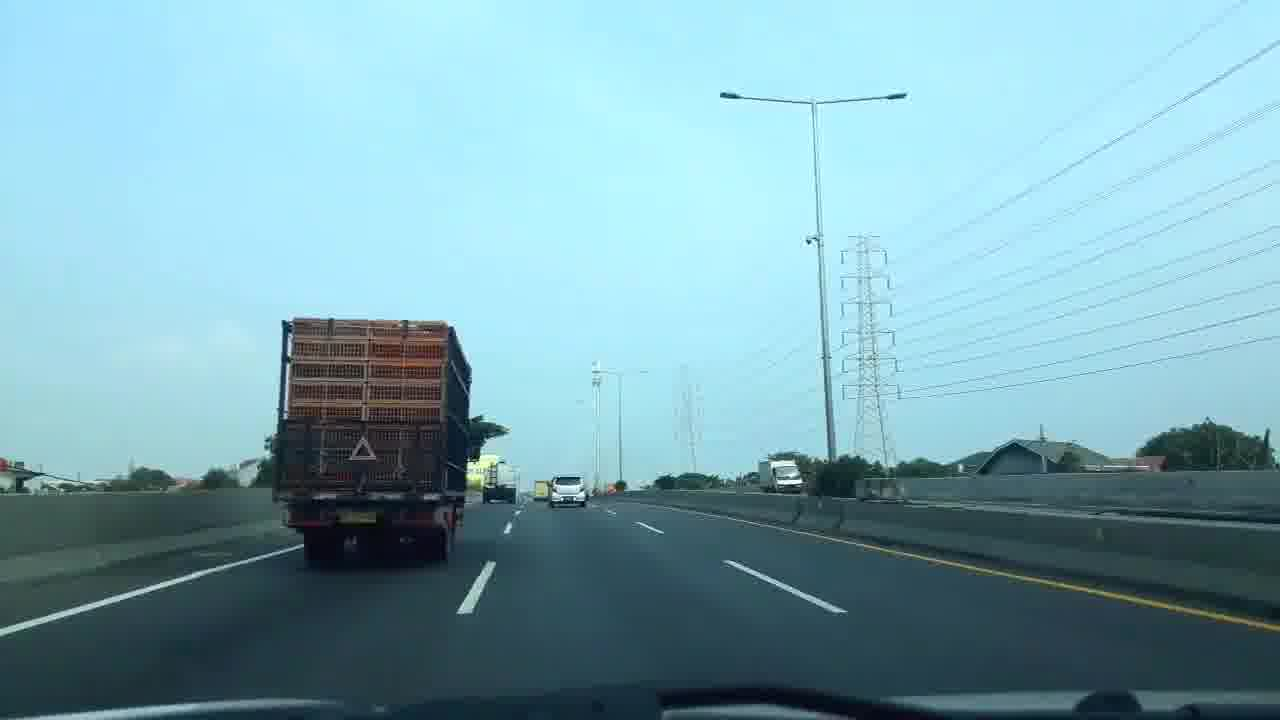plate_positive: (337, 510, 377, 525), (563, 496, 574, 502)
